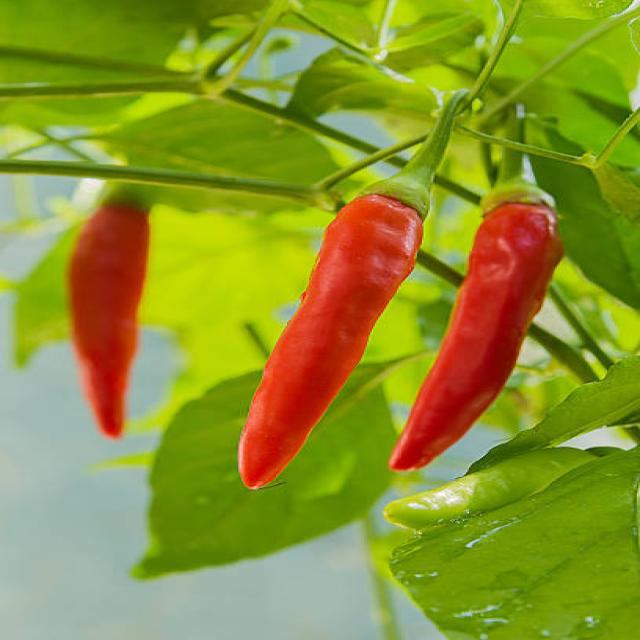Ripe: (237, 192, 425, 494), (387, 176, 566, 476)
